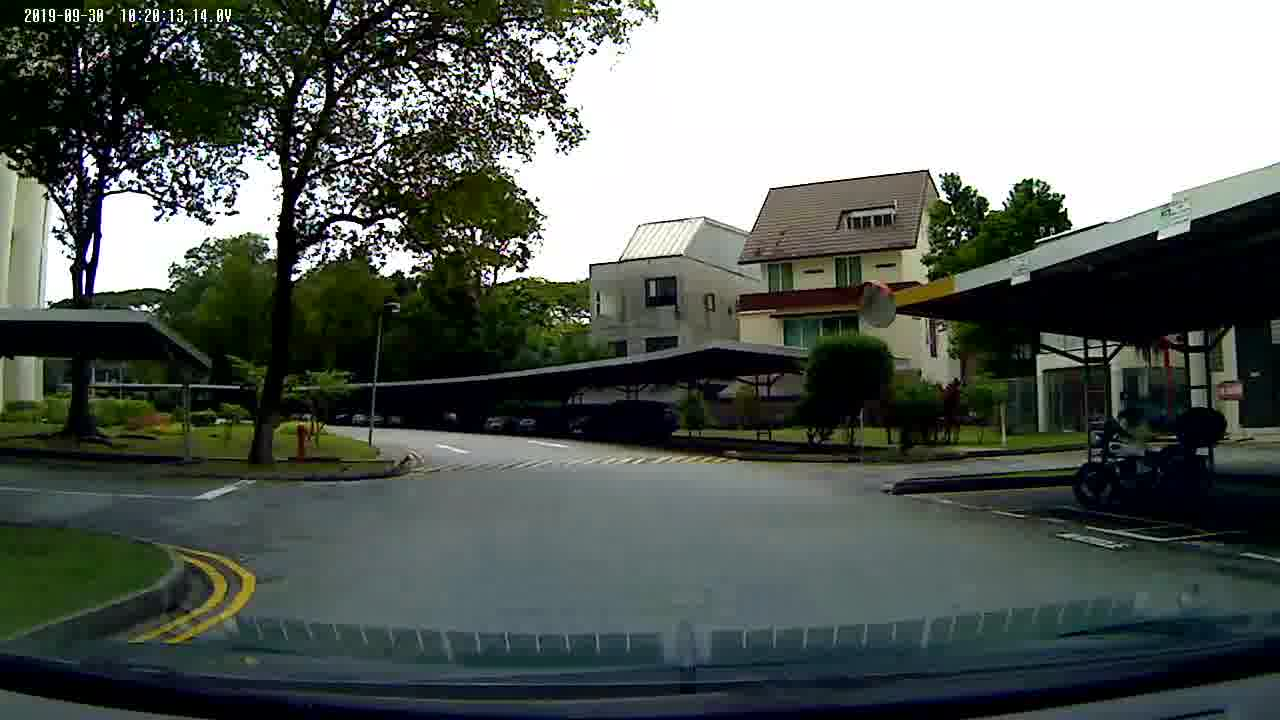car: (561, 400, 683, 442)
